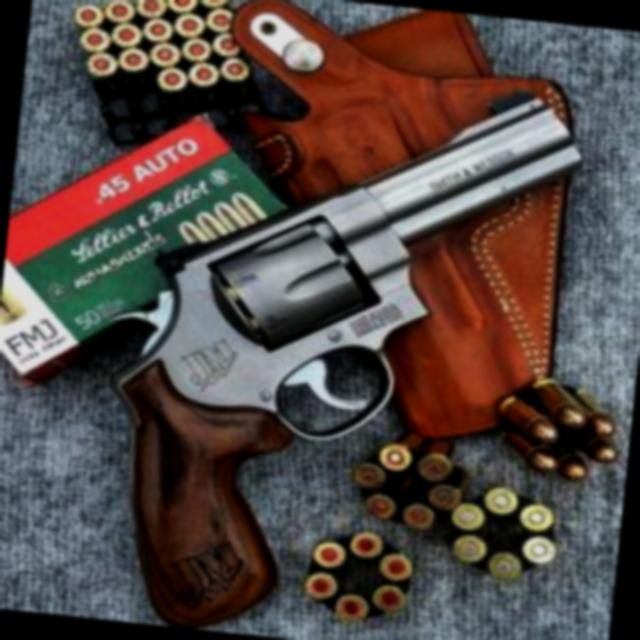revolver: (68, 42, 623, 640)
